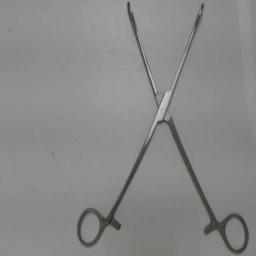Sponge Forceps: (74, 0, 254, 254)
